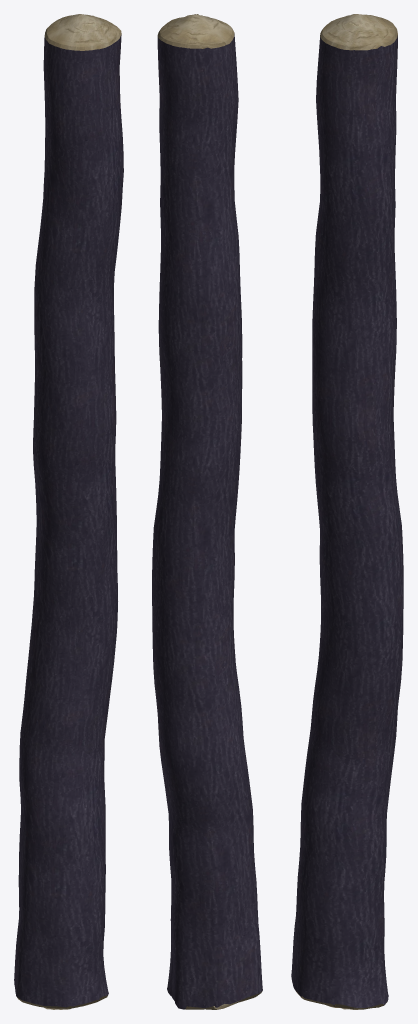
The picture shows the model from 3 angles, left to right: view 1: azimuth 30°, elevation 25°; view 2: azimuth 150°, elevation 25°; view 3: azimuth 330°, elevation 25°; orthographic projection.
Visible parts, largest first — view 1: SM_GF_Oak_Tree_01_full_LOD0; view 2: SM_GF_Oak_Tree_01_full_LOD0; view 3: SM_GF_Oak_Tree_01_full_LOD0.
Part boxes in pixels (x1,y1,x2,y2): SM_GF_Oak_Tree_01_full_LOD0: (14,14,123,1009); SM_GF_Oak_Tree_01_full_LOD0: (152,14,262,1009); SM_GF_Oak_Tree_01_full_LOD0: (291,14,403,1009).
Size of the model in its own units: 1.04 by 9.94 by 0.9293.
Materials: 1 (1 with a texture image).
